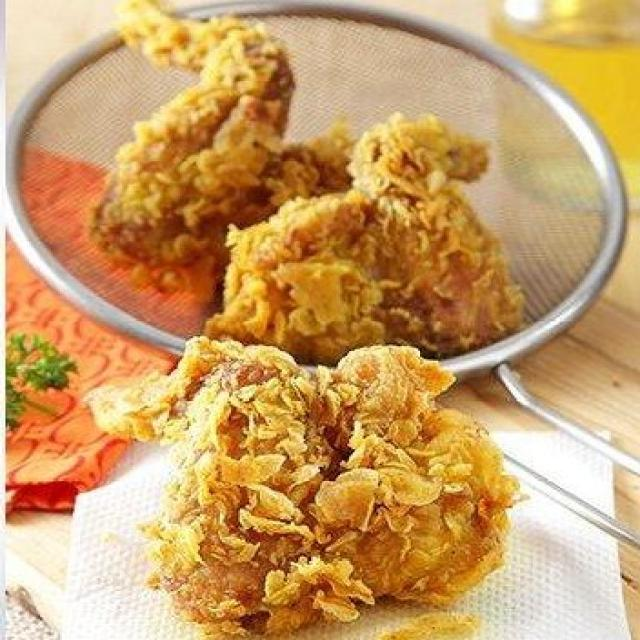Frango: (84, 343, 524, 640), (87, 3, 402, 256), (220, 116, 522, 338)
